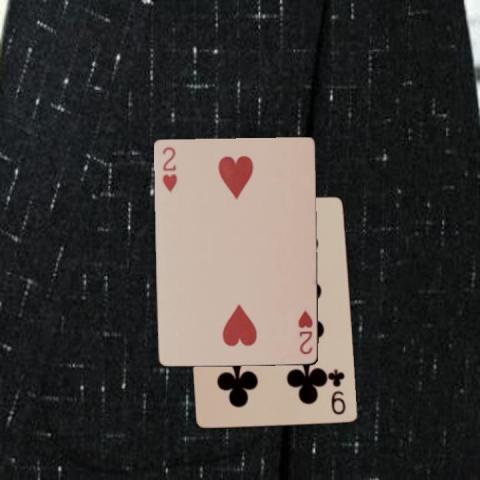2h: (159, 144, 179, 194), (295, 308, 315, 356)
9c: (330, 366, 348, 416)
